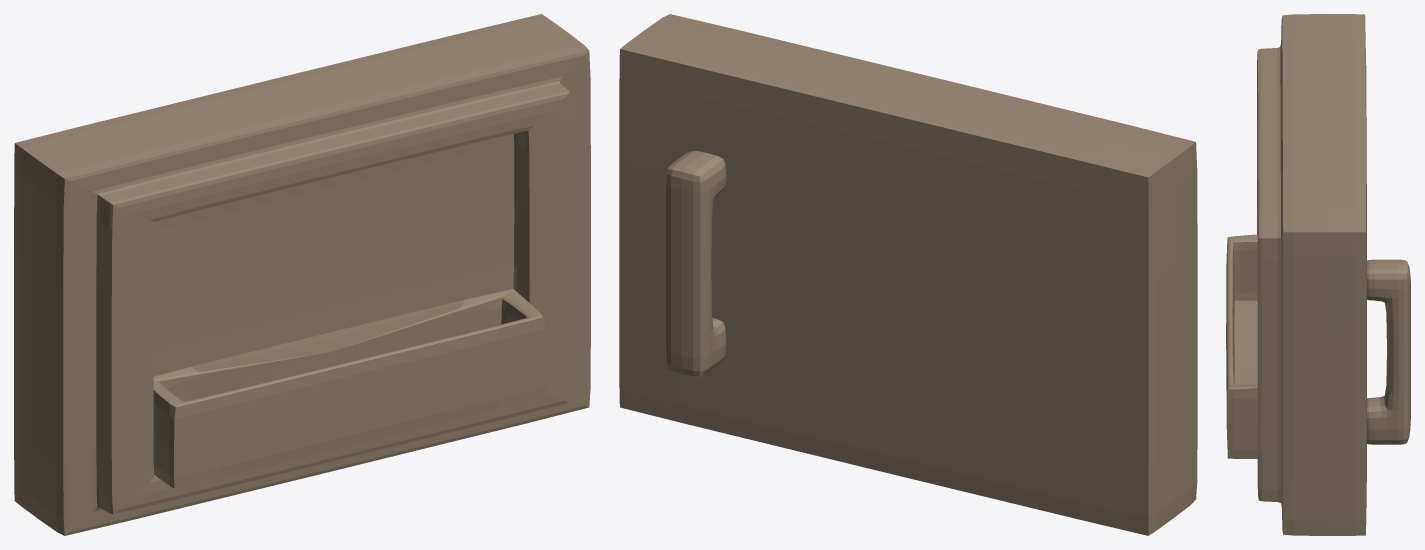
File: icebox_door3.fbx
3 renders of one model, left to right at view 1: azimuth 30°, elevation 25°; view 2: azimuth 150°, elevation 25°; view 3: azimuth 270°, elevation 25°, orthographic. The views are drawn at different scales.
Visible parts, largest first — view 1: icebox_door3; view 2: icebox_door3, polySurface719; view 3: icebox_door3, polySurface719.
Boxes of the visible parts, x1,y1,x2,y2 form: icebox_door3: (14, 14, 590, 535); icebox_door3: (619, 14, 1197, 535); polySurface719: (665, 150, 726, 376); icebox_door3: (1226, 14, 1366, 535); polySurface719: (1367, 259, 1410, 444).
Size of the model in its own units: 1.4 by 0.9108 by 0.4988.
